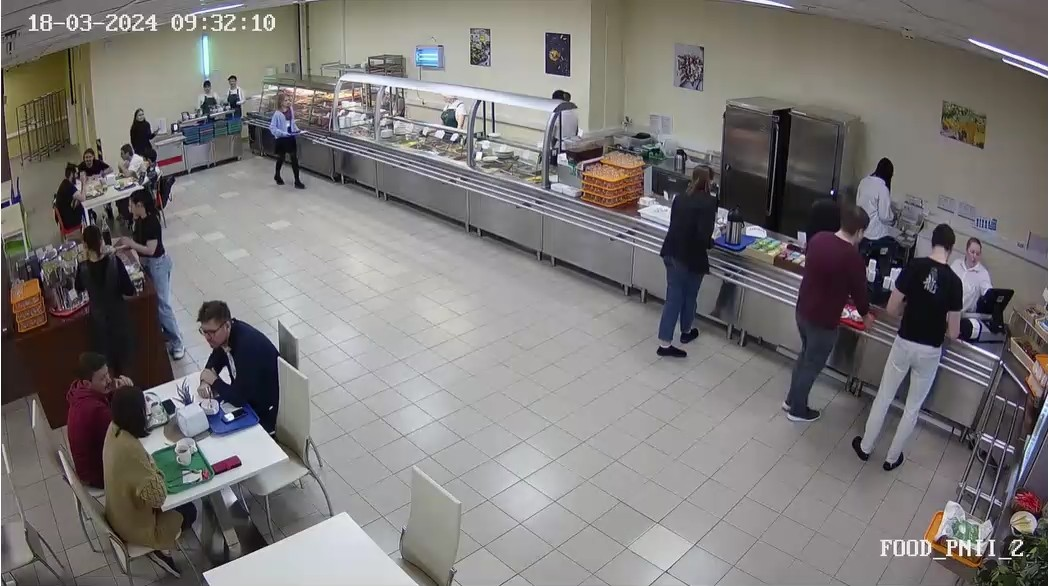Na_Kasse: (768, 207, 994, 464), (716, 192, 901, 436)
Ne_v_Ocheredi: (121, 184, 223, 346), (75, 226, 134, 346), (130, 106, 161, 155)
Personal: (845, 145, 903, 208), (957, 236, 998, 312), (438, 86, 476, 134), (223, 69, 249, 118), (193, 77, 221, 118)
Vybiraet: (644, 153, 728, 372), (264, 87, 308, 194)
Za_Stolom: (189, 299, 299, 443), (94, 385, 180, 541), (49, 349, 110, 499), (54, 161, 87, 227), (114, 139, 158, 179), (75, 146, 113, 182), (141, 153, 169, 199)
